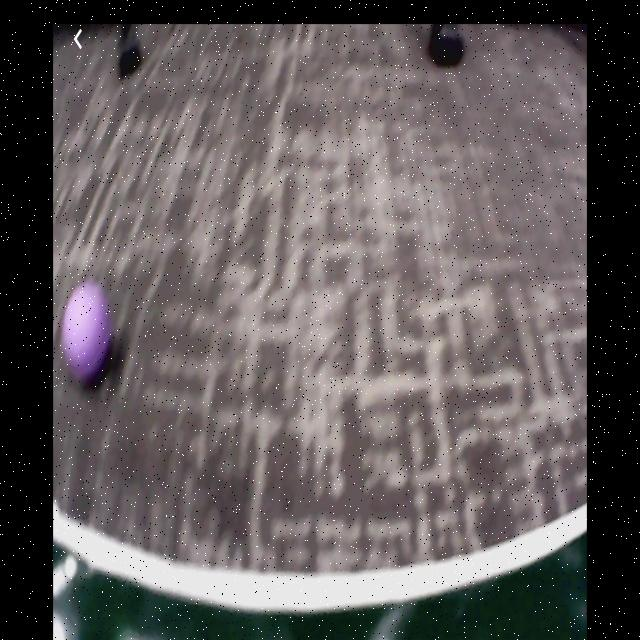ball: (61, 281, 114, 383)
